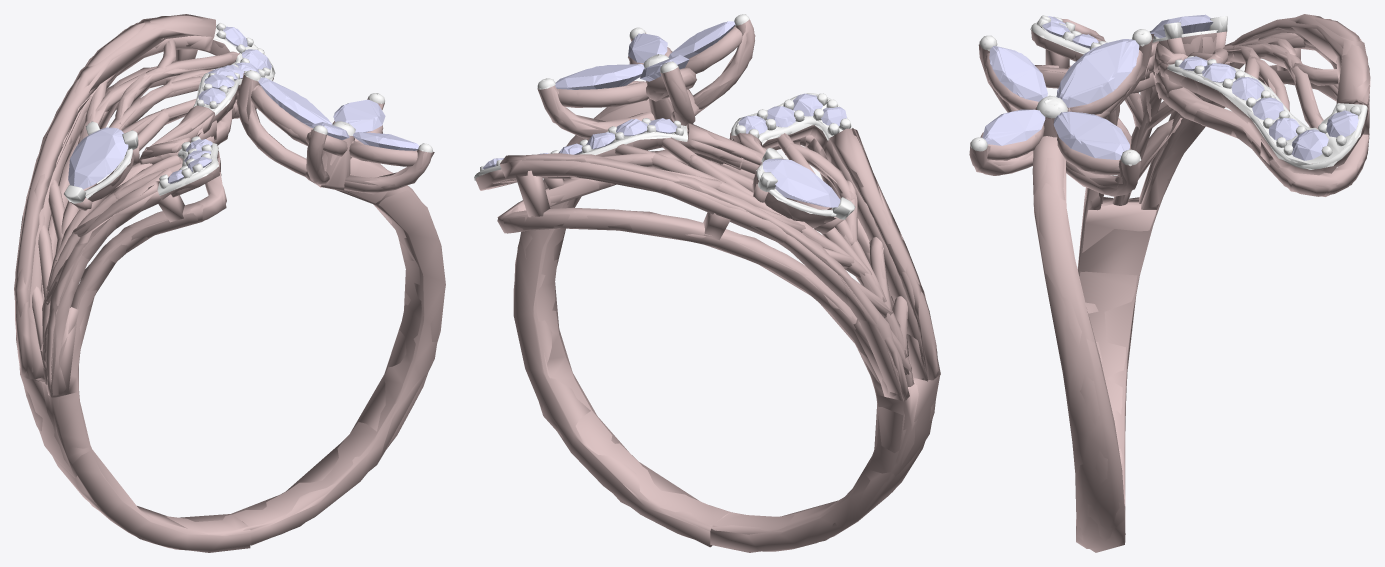
File: DLR-D000683168.glb
The picture shows the model from 3 angles, left to right: view 1: azimuth 30°, elevation 25°; view 2: azimuth 150°, elevation 25°; view 3: azimuth 270°, elevation 25°; orthographic projection. The views are drawn at different scales.
Parts seen in each view (by area): view 1: highPolyMesh, lowPolyMesh; view 2: highPolyMesh, lowPolyMesh; view 3: highPolyMesh, lowPolyMesh.
Part boxes in pixels (left/top/right/bottom): highPolyMesh: left=15, top=15, right=445, bottom=550; lowPolyMesh: left=14, top=14, right=445, bottom=552; highPolyMesh: left=474, top=14, right=937, bottom=551; lowPolyMesh: left=474, top=14, right=940, bottom=552; highPolyMesh: left=969, top=14, right=1370, bottom=549; lowPolyMesh: left=969, top=14, right=1370, bottom=552.
Bounding box in the file's own units: 0.0209 × 0.023 × 0.0163.
